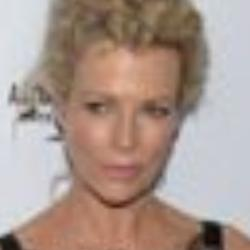face: (25, 2, 218, 211)
